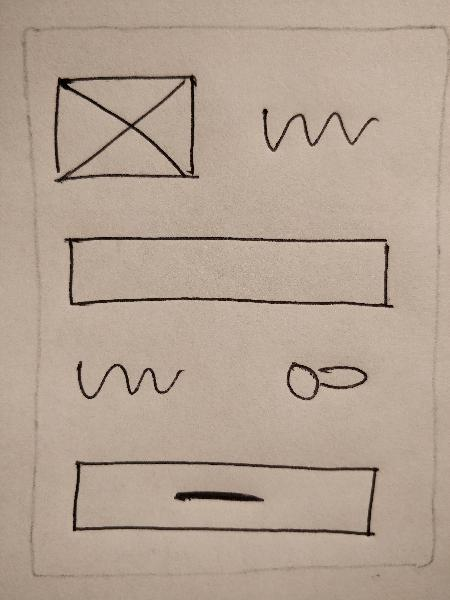button: (64, 450, 383, 546)
image: (45, 65, 208, 197)
switch: (273, 353, 382, 410)
text: (252, 101, 386, 161), (65, 352, 190, 409)
text_input: (59, 229, 399, 324)
